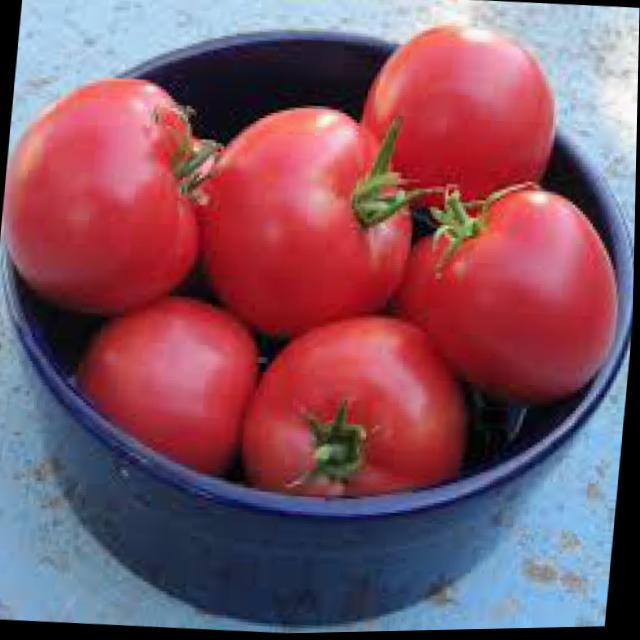tomato: (193, 104, 426, 348), (0, 79, 215, 322), (388, 188, 629, 404), (240, 309, 481, 510), (353, 23, 564, 215), (65, 288, 270, 474)
